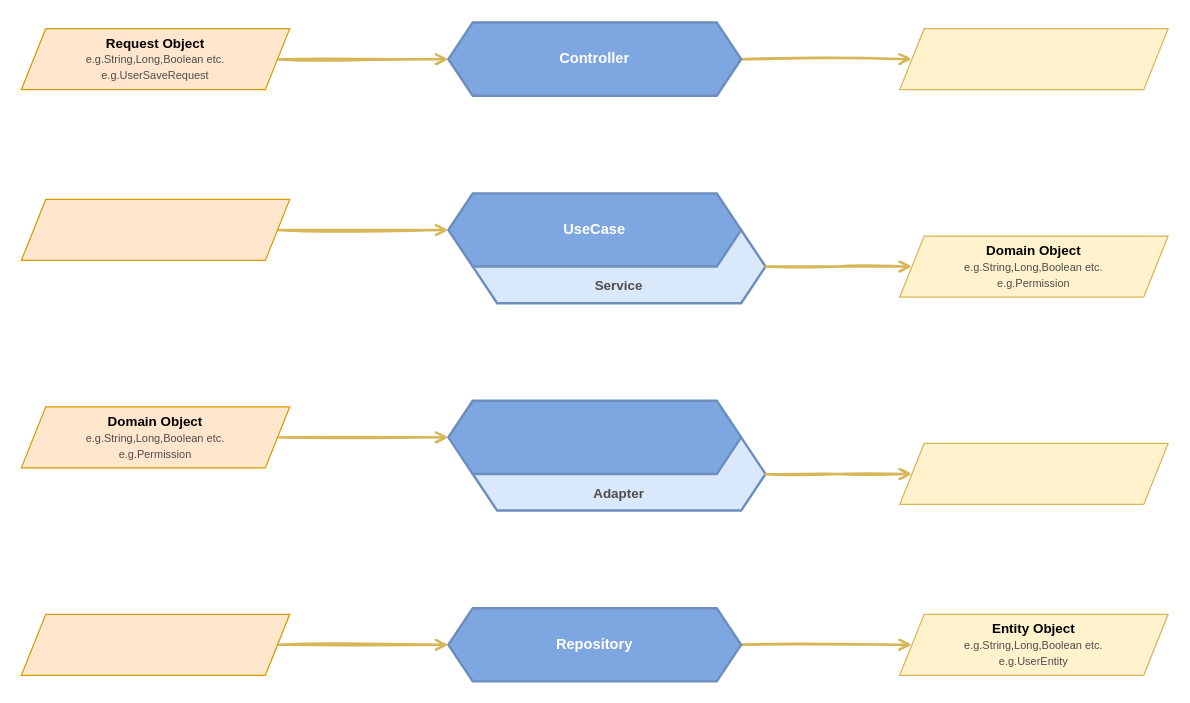
Image size: 1190x703. Some labels were removed from this diagram. Here are the shapes that lost their labels. From the top down, the centre of each, then its label:
At point (1033, 58): "Response Object e.g.String,Long,Boolean etc. e.g.RoleResponse".
At point (155, 229): "Command Object e.g.String,Long,Boolean etc. e.g.UserSaveCommand".
At point (594, 437): "Port".
At point (1033, 473): "Domain Object e.g.String,Long,Boolean etc. e.g.Role".
At point (155, 644): "Entity Object e.g.String,Long,Boolean etc. e.g.RoleEntity".
